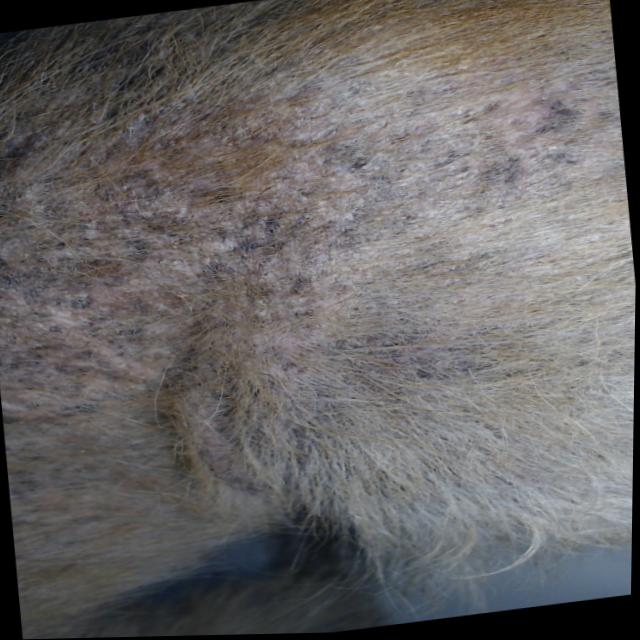demodicosis: (0, 55, 449, 367), (9, 345, 265, 535)
